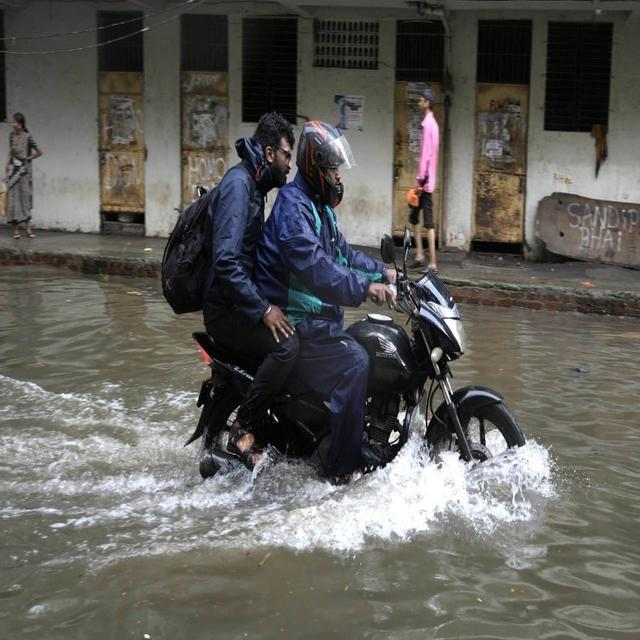Person-RiskLevel1: (403, 90, 456, 272), (5, 104, 55, 232)
Person-RiskLevel2: (275, 123, 382, 484), (195, 107, 295, 477)
